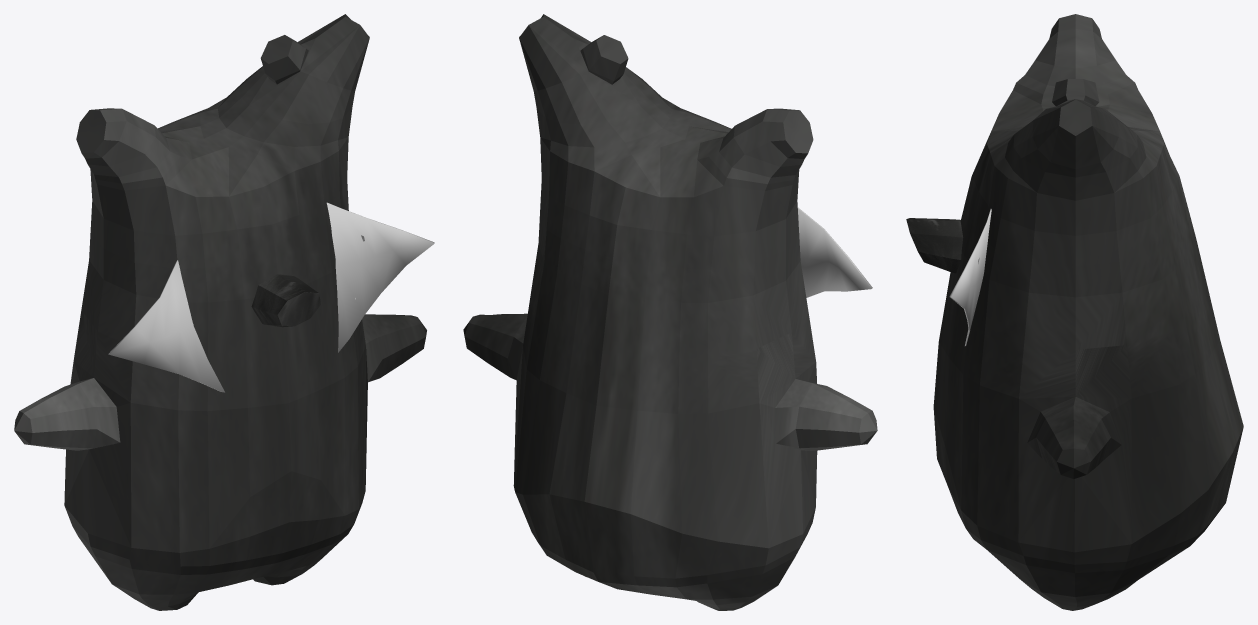
File: frame_0023.obj
3 renders of one model, left to right at view 1: azimuth 30°, elevation 25°; view 2: azimuth 150°, elevation 25°; view 3: azimuth 270°, elevation 25°, orthographic.
Visible parts, largest first — view 1: korok, leaf, nose; view 2: korok, leaf; view 3: korok, nose, leaf.
Part boxes in pixels (x1=…): korok: x1=14, y1=14, x2=426, y2=610; leaf: x1=108, y1=202, x2=434, y2=392; nose: x1=251, y1=274, x2=320, y2=327; korok: x1=463, y1=14, x2=877, y2=610; leaf: x1=797, y1=207, x2=872, y2=297; korok: x1=933, y1=14, x2=1243, y2=610; nose: x1=906, y1=218, x2=963, y2=273; leaf: x1=949, y1=209, x2=991, y2=345.
Size of the model in its own units: 1.78 by 2.26 by 1.27.
